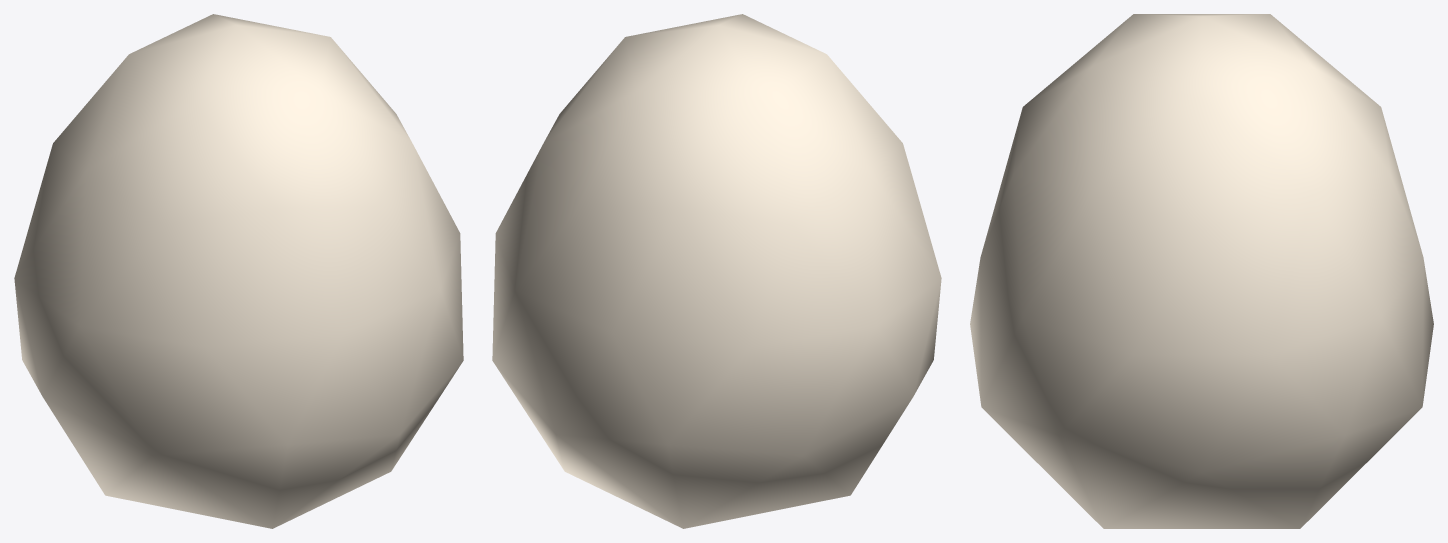
File: Trung ga.fbx
The picture shows the model from 3 angles, left to right: view 1: azimuth 30°, elevation 25°; view 2: azimuth 150°, elevation 25°; view 3: azimuth 270°, elevation 25°; orthographic projection. The views are drawn at different scales.
Visible parts, largest first — view 1: Trung ga; view 2: Trung ga; view 3: Trung ga.
Boxes of the visible parts, x1,y1,x2,y2 form: Trung ga: (14,14,463,528); Trung ga: (492,14,941,528); Trung ga: (970,14,1433,528).
Bounding box in the file's own units: 27.65 × 32.94 × 27.58.
